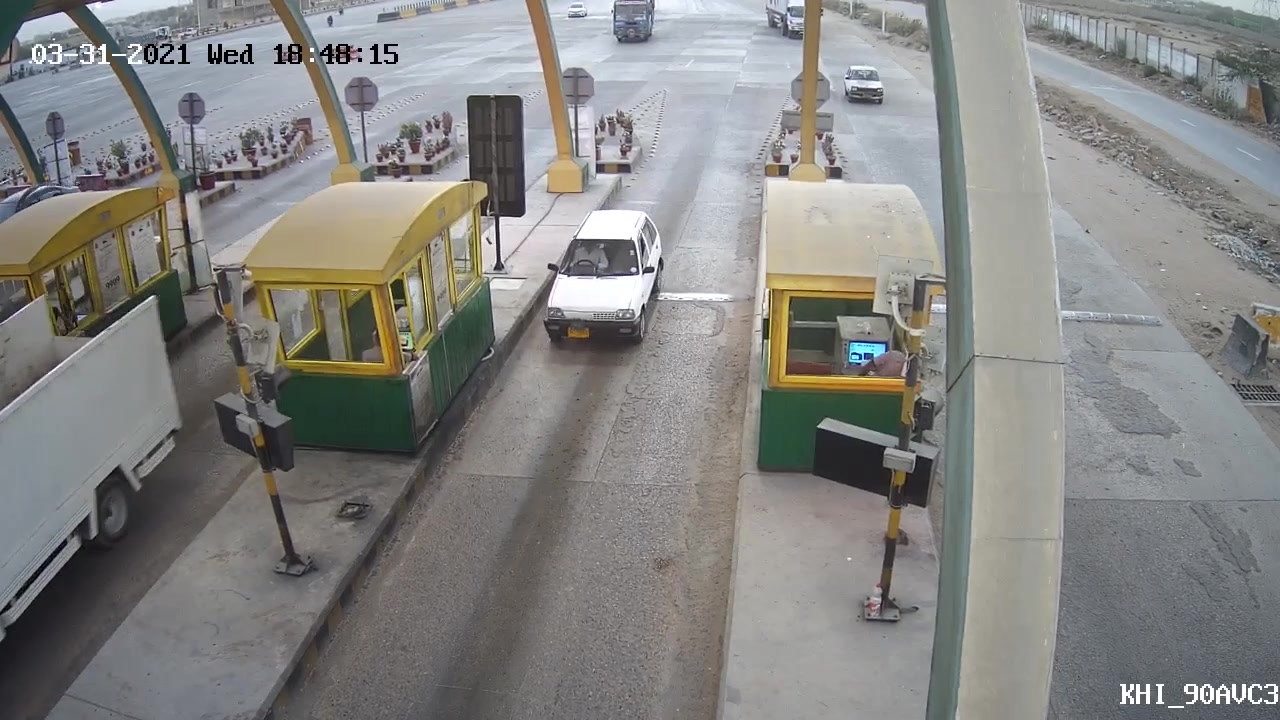F1: (534, 207, 667, 345)
